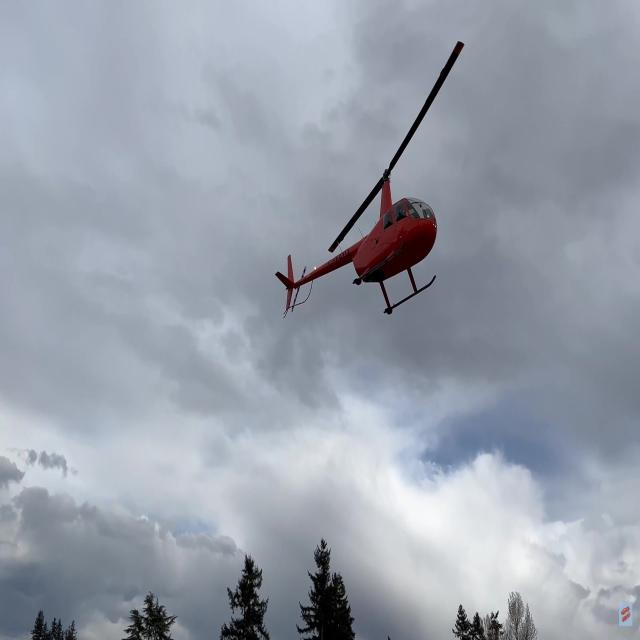CIV_HELO: (275, 165, 438, 321)
